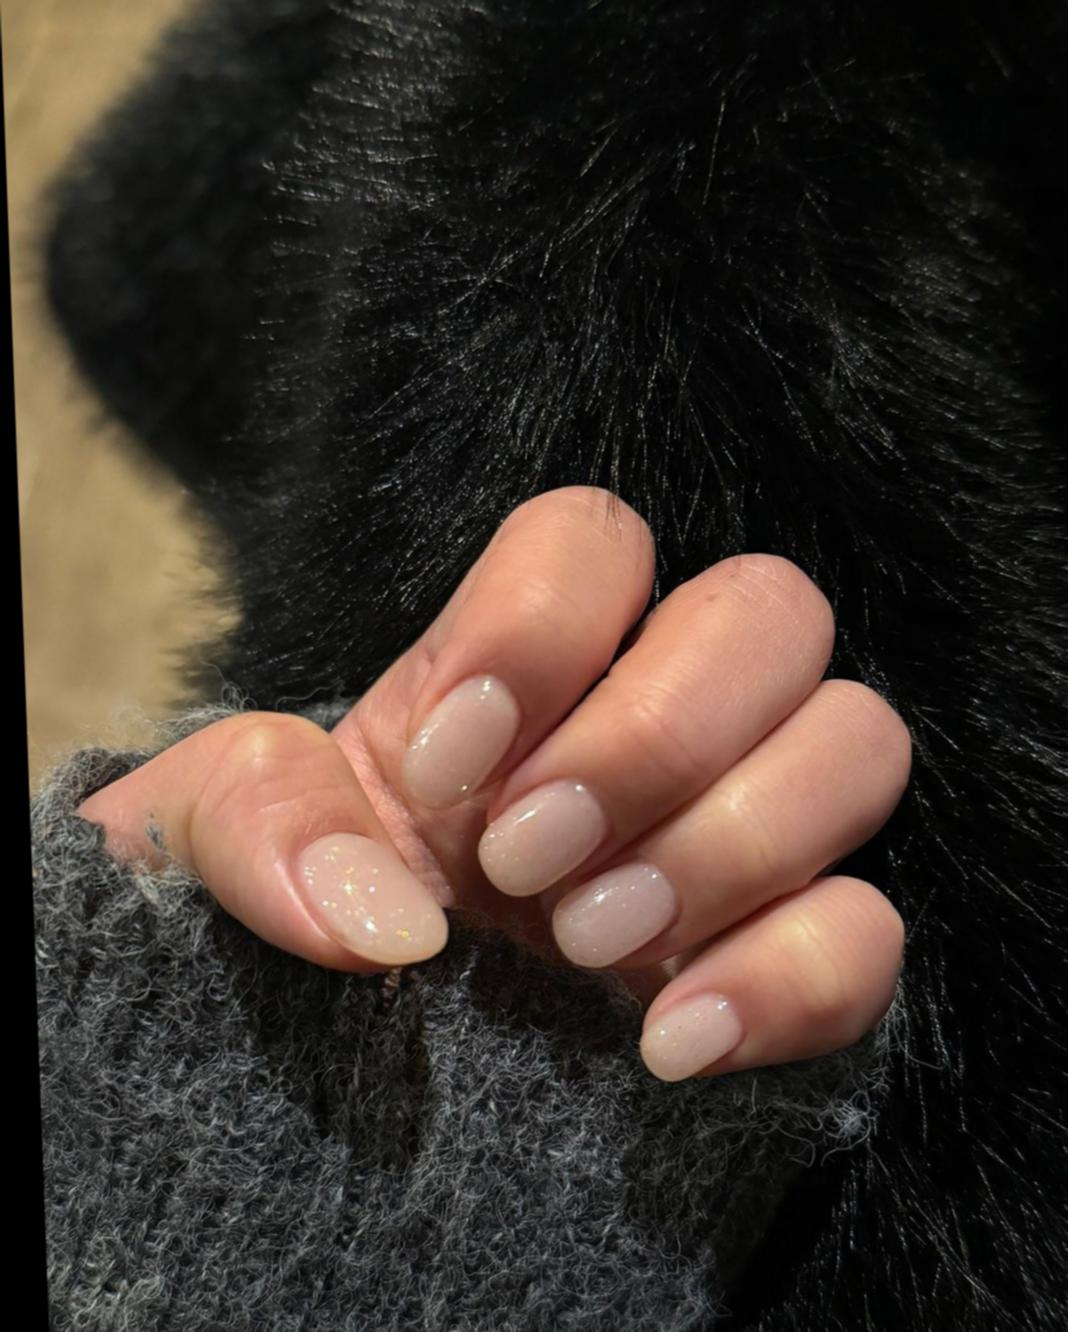nail: (463, 550, 845, 900), (540, 675, 920, 971), (630, 873, 911, 1083), (291, 829, 451, 967), (395, 671, 526, 810), (473, 776, 612, 898), (547, 858, 680, 969), (636, 988, 746, 1082)
